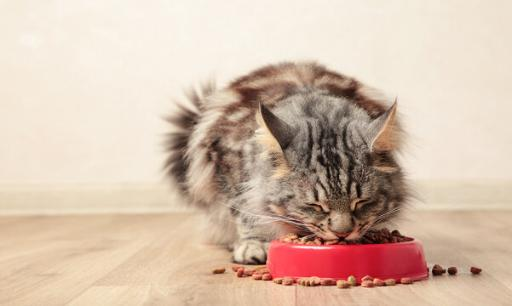cat_eating: (166, 63, 426, 279)
